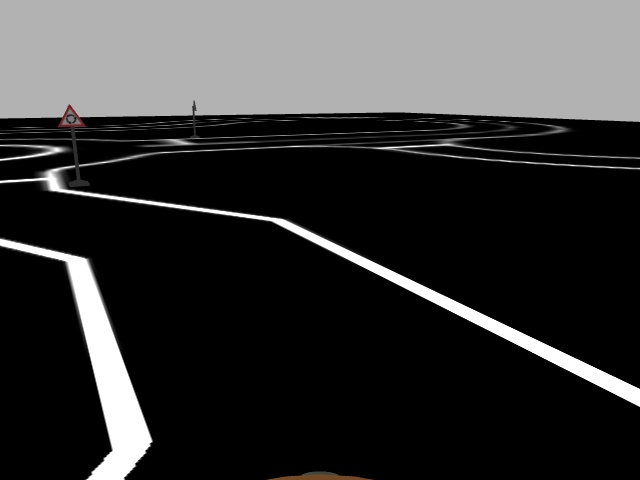roundabout: (57, 103, 87, 128)
